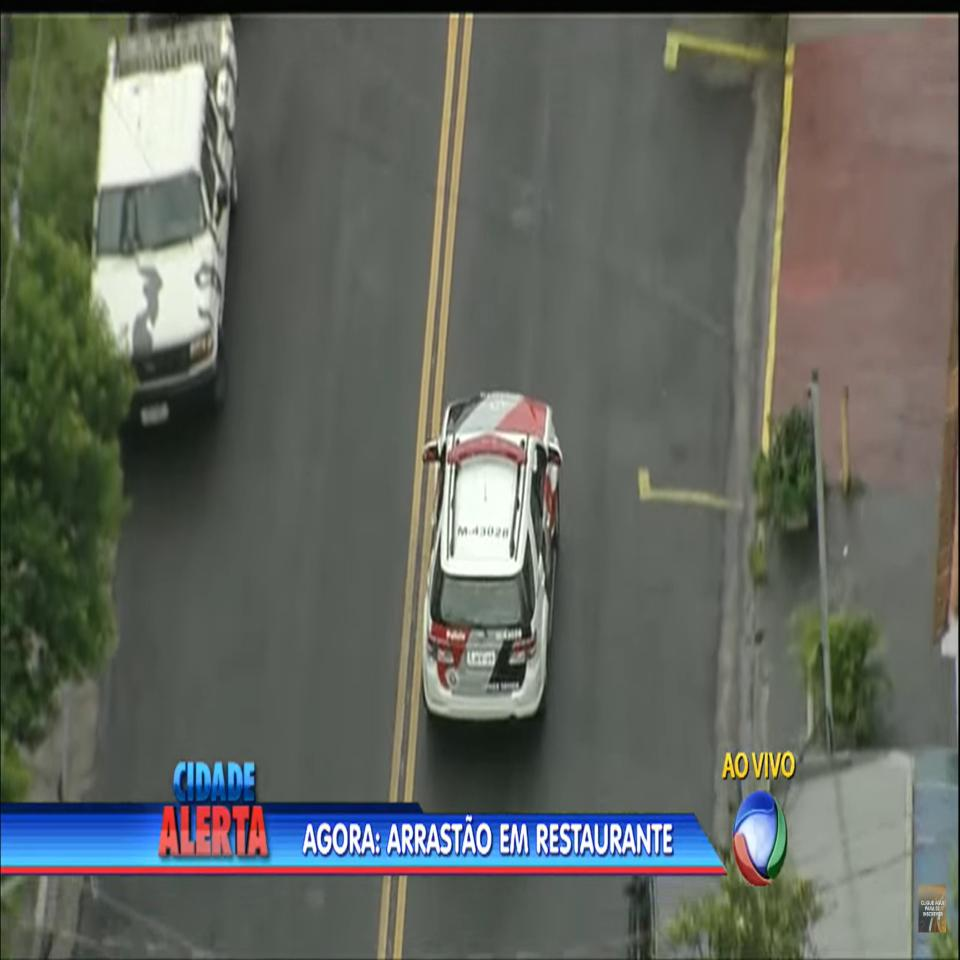viatura: (419, 383, 566, 731)
